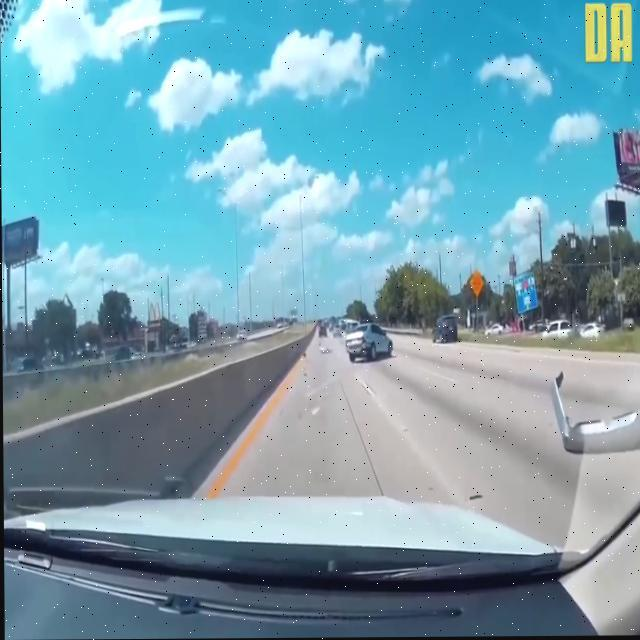normal: (430, 308, 462, 340)
single accident: (335, 308, 408, 368)
